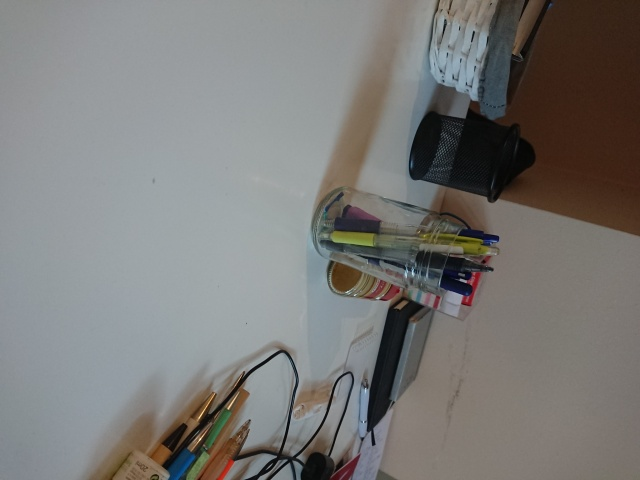Kotanyi Curry Spices Mix 70g: (324, 250, 406, 303)
